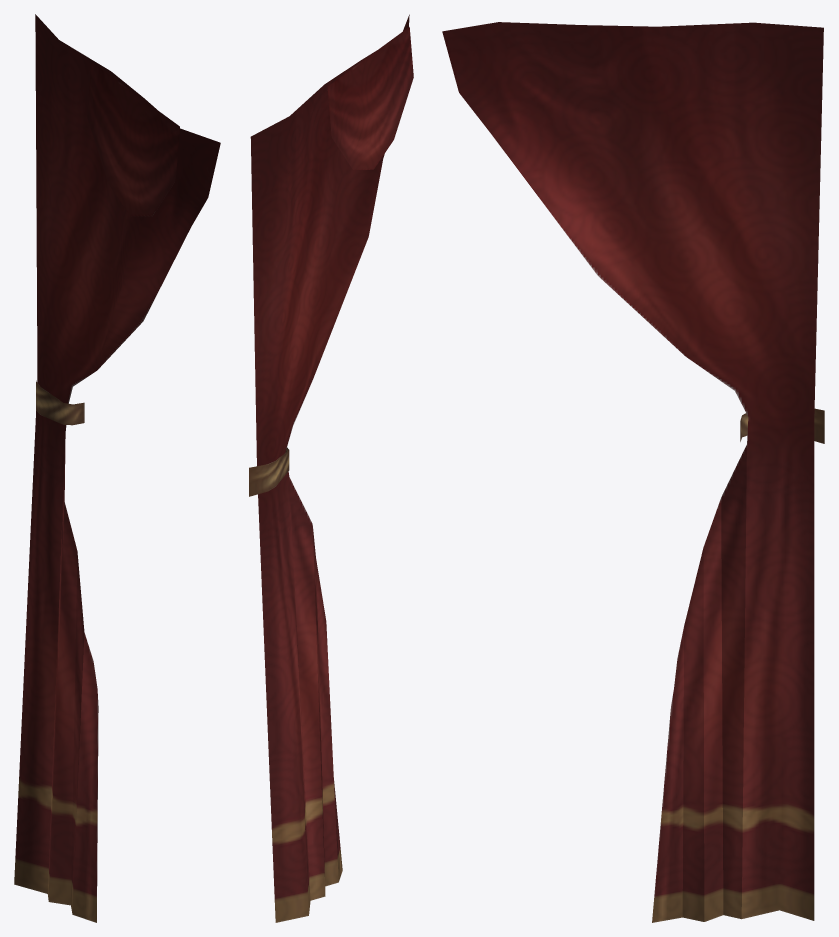
Rendered from WC_chuanglian01.FBX.
The picture shows the model from 3 angles, left to right: view 1: azimuth 30°, elevation 25°; view 2: azimuth 150°, elevation 25°; view 3: azimuth 270°, elevation 25°; orthographic projection. The views are drawn at different scales.
Visible parts, largest first — view 1: WC_chuanglian01_001, WC_chuanglian01_002; view 2: WC_chuanglian01_001, WC_chuanglian01_002; view 3: WC_chuanglian01_001.
Boxes of the visible parts, x1,y1,x2,y2 form: WC_chuanglian01_001: (14, 14, 220, 922); WC_chuanglian01_002: (87, 62, 179, 216); WC_chuanglian01_001: (249, 14, 409, 922); WC_chuanglian01_002: (327, 27, 413, 169); WC_chuanglian01_001: (442, 22, 824, 922).
Size of the model in its own units: 108 by 1682 by 640.
